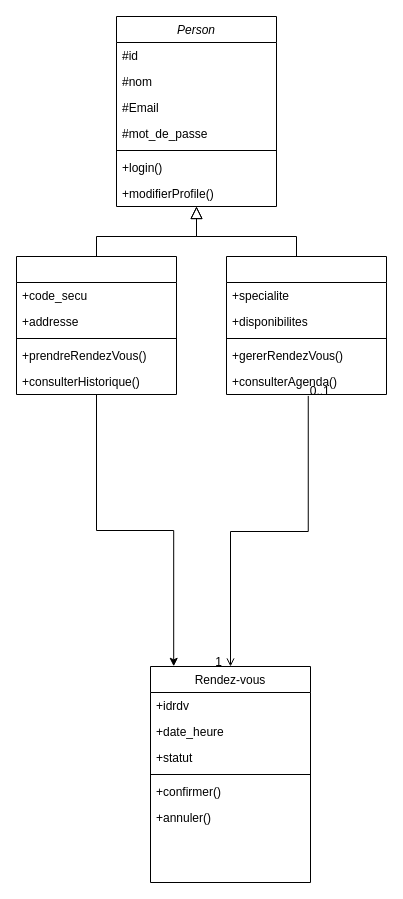
Some shapes in this 403 by 899 pixel diagram are drawn without their labels. The shapes that lost their labels are listed below. From the top down, each one's box as (x1, y1, x2, y2) in pixels, then its label:
(16, 256, 176, 394): Patient
(226, 256, 386, 394): Medecin
